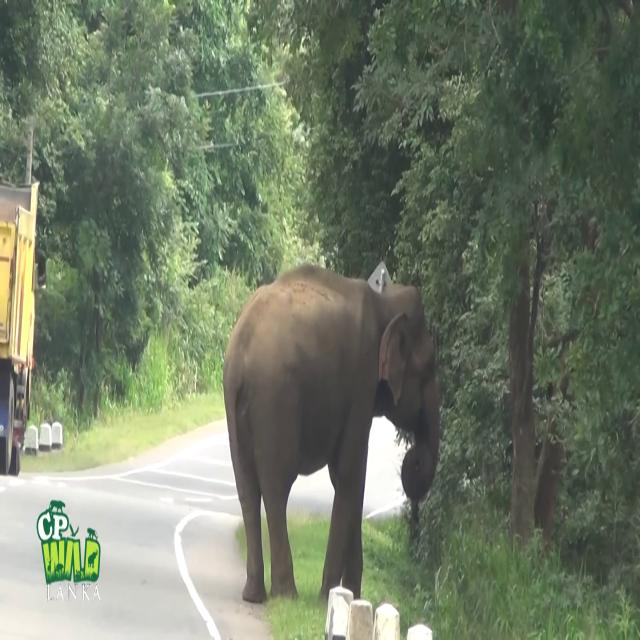Elephant: (222, 261, 440, 605)
